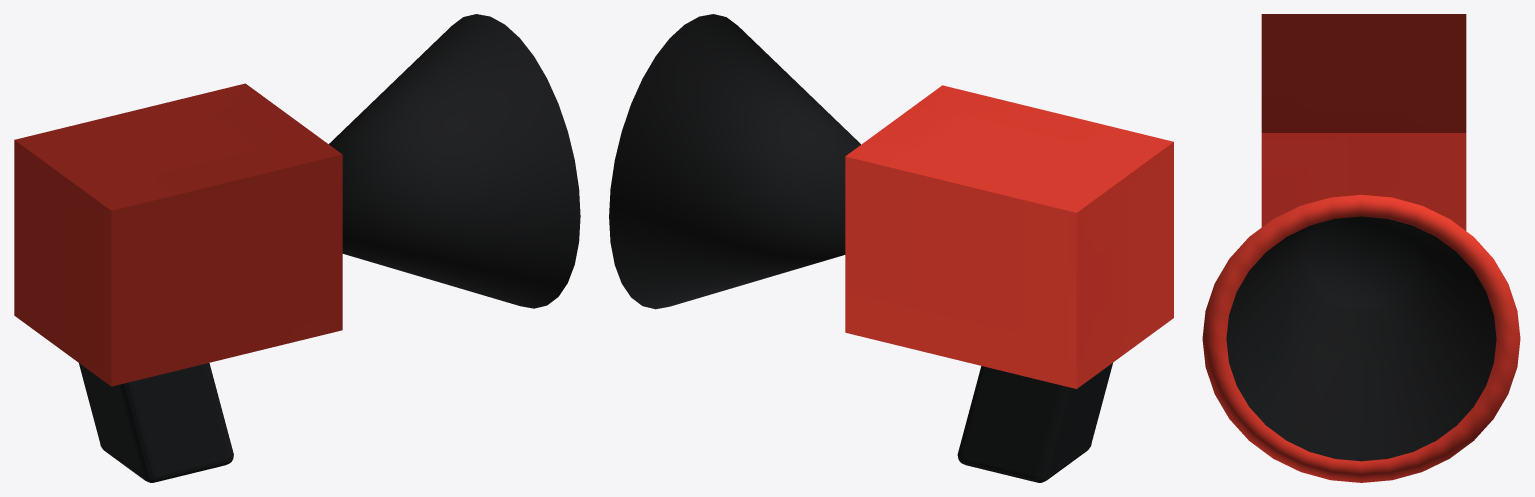
Rendered from Megafone.fbx.
3 renders of one model, left to right at view 1: azimuth 30°, elevation 25°; view 2: azimuth 150°, elevation 25°; view 3: azimuth 270°, elevation 25°, orthographic. The views are drawn at different scales.
Visible parts, largest first — view 1: Cone; view 2: Cone; view 3: Cone.
Boxes of the visible parts, <box> form: Cone: <box>14,14,580,482</box>; Cone: <box>609,14,1173,482</box>; Cone: <box>1202,14,1520,482</box>.
Bounding box in the file's own units: 253 × 192 × 150.
